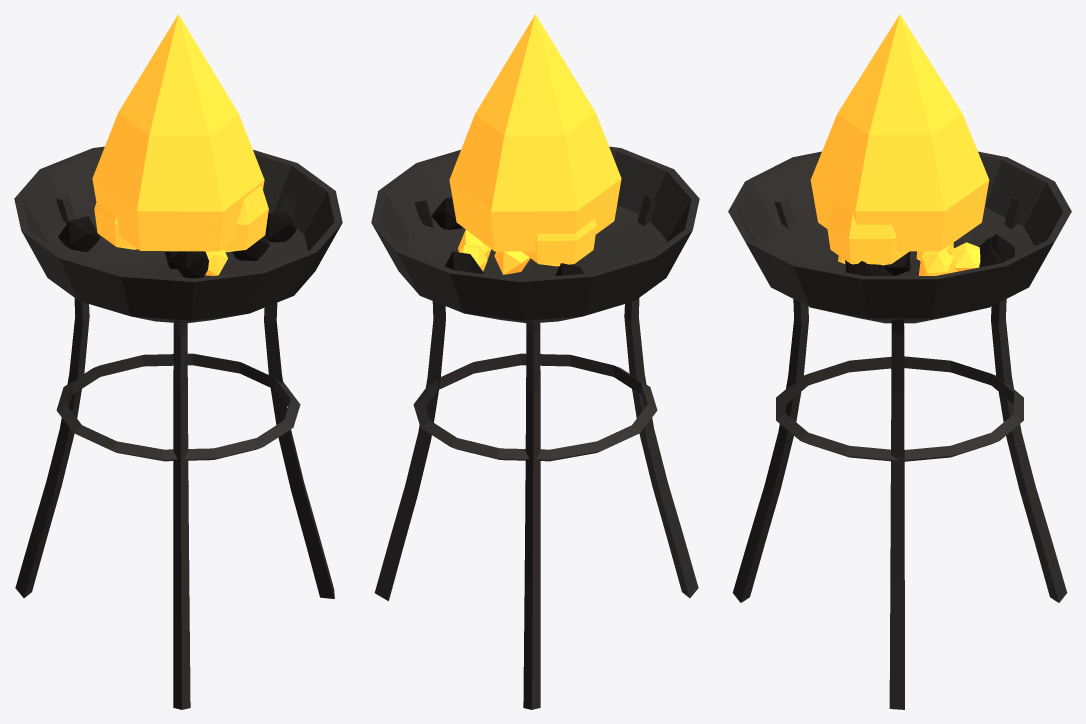
The model's file is brazier-standing-a.glb.
The picture shows the model from 3 angles, left to right: view 1: azimuth 30°, elevation 25°; view 2: azimuth 150°, elevation 25°; view 3: azimuth 270°, elevation 25°; orthographic projection.
Parts seen in each view (by area): view 1: Body_Iron, Flame1_Fire, Body_Dark, Flame2_Fire, Flame3_Fire; view 2: Body_Iron, Flame1_Fire, Flame3_Fire, Body_Dark, Body_Fire; view 3: Body_Iron, Flame1_Fire, Flame2_Fire, Body_Dark, Body_Fire.
Part boxes in pixels (bbox=[...]): Body_Iron: bbox=[14, 146, 342, 709]; Flame1_Fire: bbox=[92, 14, 264, 251]; Body_Dark: bbox=[58, 211, 296, 278]; Flame2_Fire: bbox=[222, 185, 268, 252]; Flame3_Fire: bbox=[94, 202, 137, 249]; Body_Iron: bbox=[371, 146, 699, 709]; Flame1_Fire: bbox=[449, 14, 621, 251]; Flame3_Fire: bbox=[522, 219, 596, 266]; Body_Dark: bbox=[431, 197, 583, 275]; Body_Fire: bbox=[458, 230, 530, 274]; Body_Iron: bbox=[728, 151, 1071, 709]; Flame1_Fire: bbox=[810, 14, 989, 251]; Flame2_Fire: bbox=[826, 200, 909, 265]; Body_Dark: bbox=[845, 234, 1014, 275]; Body_Fire: bbox=[838, 242, 980, 275].
Size of the model in its own units: 0.7 by 1.4 by 0.7.
